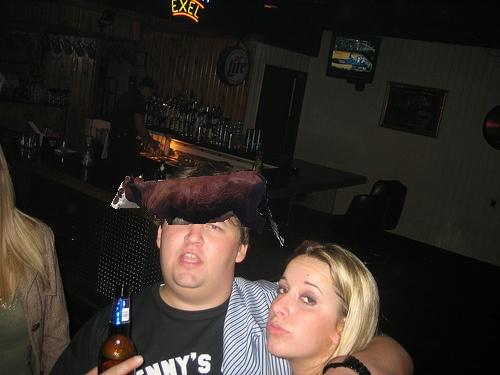tampered: (111, 171, 284, 247)
